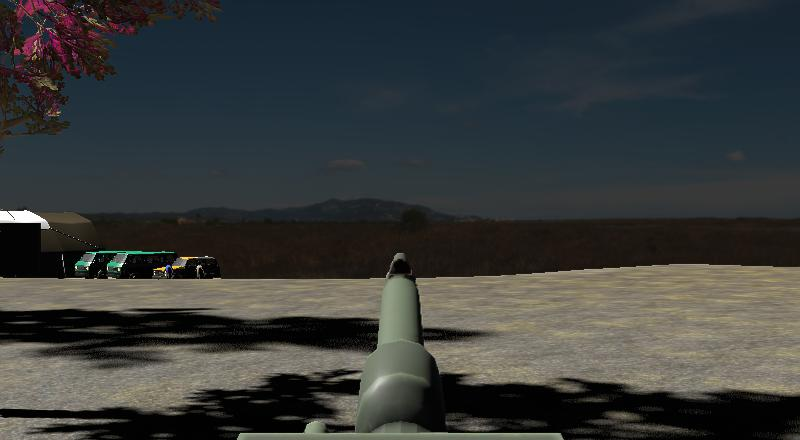Human: (193, 260, 205, 281), (165, 262, 176, 279)
car: (105, 251, 179, 279), (73, 249, 121, 280), (160, 257, 218, 280)
